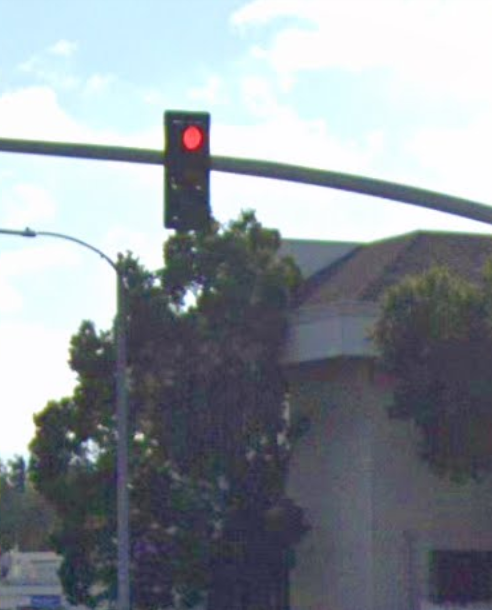red_light: (164, 111, 207, 227)
